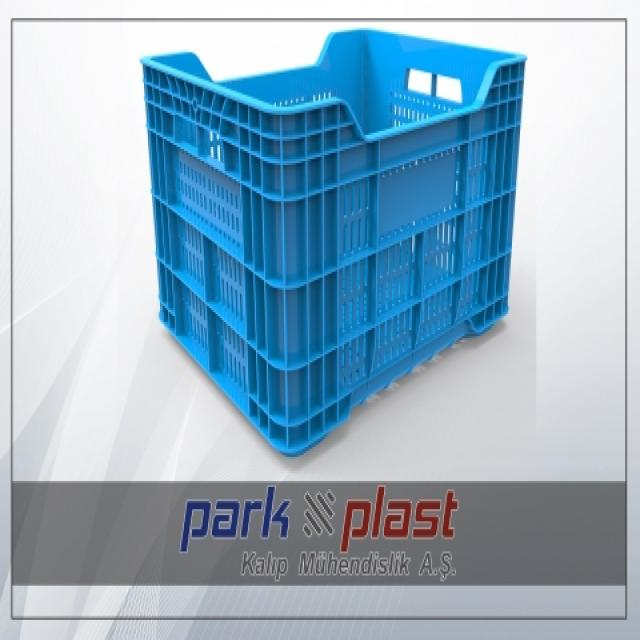basket: (116, 14, 527, 467)
